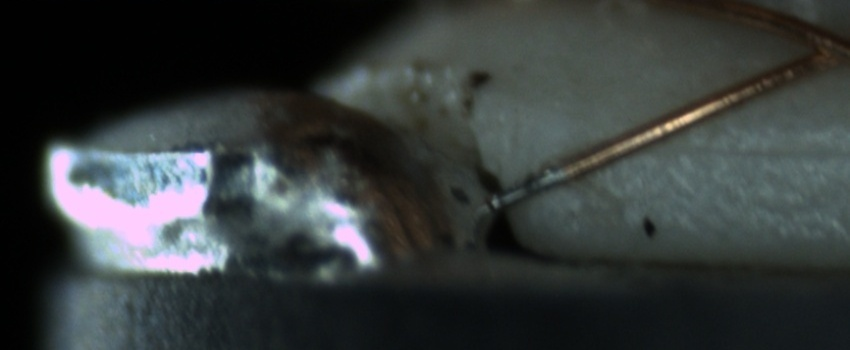CL: (777, 13, 846, 81)
DL: (628, 112, 847, 185)
TS: (483, 166, 569, 211)
